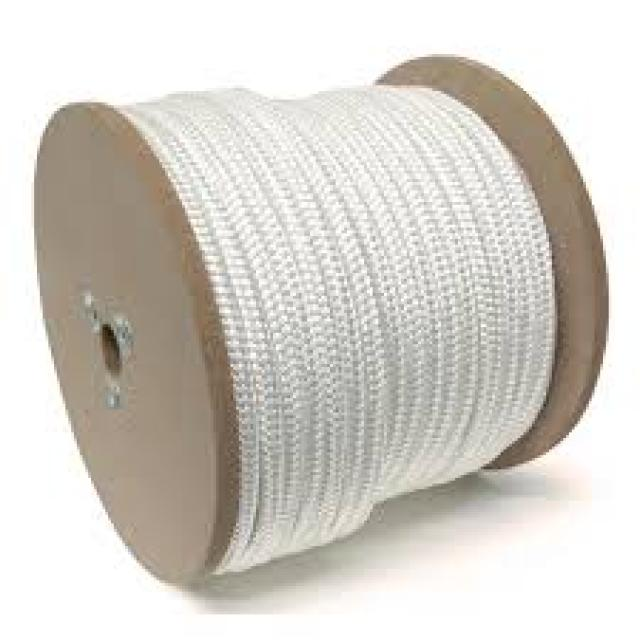hammer: (31, 57, 609, 594)
